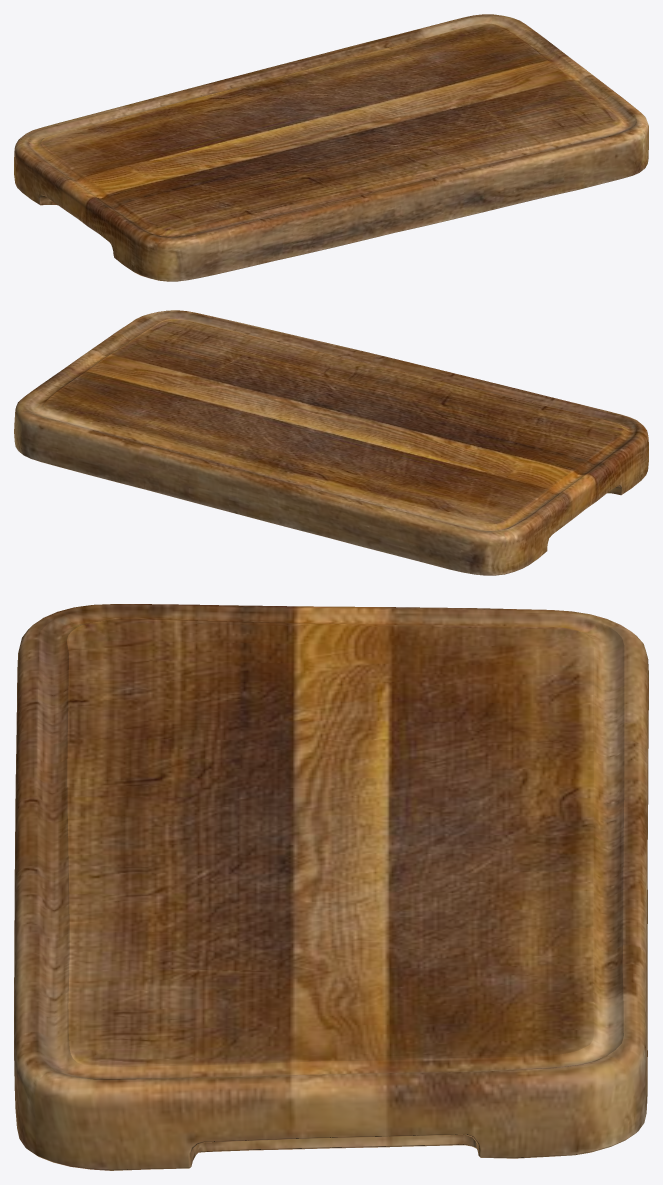
The model's file is wooden_cutting_board.glb.
The picture shows the model from 3 angles, top to bottom: view 1: azimuth 30°, elevation 25°; view 2: azimuth 150°, elevation 25°; view 3: azimuth 270°, elevation 25°; orthographic projection. The views are drawn at different scales.
Visible parts, largest first — view 1: wooden_cutting_board; view 2: wooden_cutting_board; view 3: wooden_cutting_board.
Boxes of the visible parts, left/top/right/bottom form: wooden_cutting_board: left=14, top=14, right=648, bottom=281; wooden_cutting_board: left=14, top=310, right=648, bottom=575; wooden_cutting_board: left=14, top=604, right=648, bottom=1170.
Bounding box in the file's own units: 0.4499 × 0.0413 × 0.2466.
Materials: 1 (1 with a texture image).
